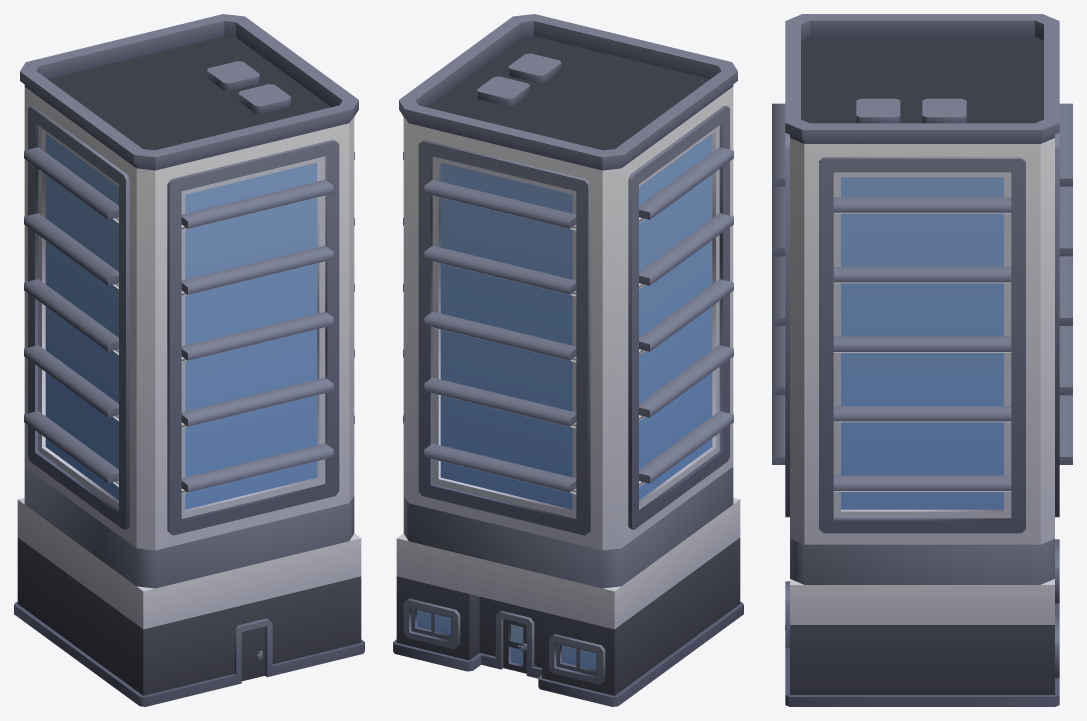
The model's file is commercial-building-skyscraper-a.glb.
The picture shows the model from 3 angles, left to right: view 1: azimuth 30°, elevation 25°; view 2: azimuth 150°, elevation 25°; view 3: azimuth 270°, elevation 25°; orthographic projection. The views are drawn at different scales.
Visible parts, largest first — view 1: building-skyscraper-a; view 2: building-skyscraper-a; view 3: building-skyscraper-a.
Boxes of the visible parts, x1=… form: building-skyscraper-a: x1=14, y1=14, x2=364, y2=706; building-skyscraper-a: x1=393, y1=14, x2=743, y2=706; building-skyscraper-a: x1=772, y1=14, x2=1072, y2=706.
Size of the model in its own units: 1.36 by 2.88 by 1.36.
Materials: 1 (1 with a texture image).
